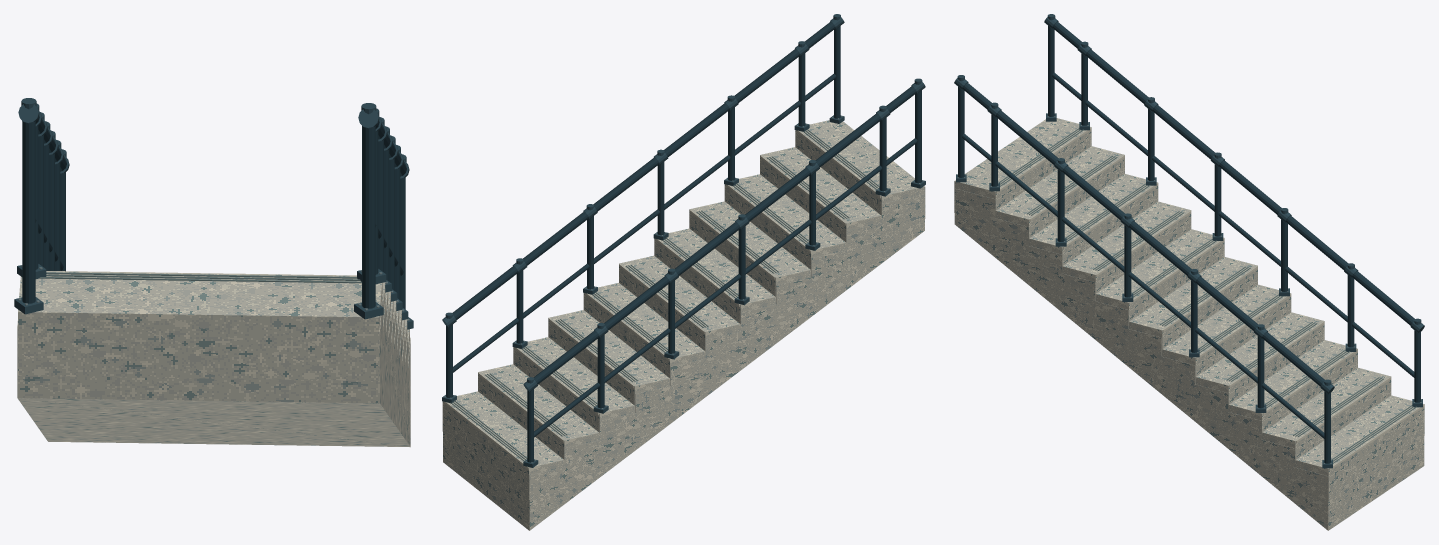
File: upper_rotating_stair.glb
3 renders of one model, left to right at view 1: azimuth 30°, elevation 25°; view 2: azimuth 150°, elevation 25°; view 3: azimuth 270°, elevation 25°, orthographic. The views are drawn at different scales.
Visible parts, largest first — view 1: b_upper_stair, Closed stone side and underside, Round post 1 06, Round post -1 06, Round post -1 01, Anti-slip 10 2, Anti-slip 10 0, Anti-slip 10 1, Round post -1 04, Round post 1 04, Round post -1 03, Round post -1 00 (+7 smaller); view 2: b_upper_stair, Closed stone side and underside, Continuous upper rail 1, Continuous upper rail -1, Continuous lower rail 1, Continuous lower rail -1, Round post -1 06, Round post 1 06, Round post -1 01, Round post -1 05, Round post 1 03; view 3: b_upper_stair, Closed stone side and underside, Continuous upper rail -1, Continuous upper rail 1, Continuous lower rail 1, Continuous lower rail -1, Round post 1 06, Round post -1 06, Round post -1 01, Round post -1 03, Round post 1 03, Round post 1 01 (+1 smaller).
Part boxes in pixels (box(x1,y1,x2,y2)): b_upper_stair: box(18, 271, 409, 380); Closed stone side and underside: box(17, 291, 410, 447); Round post 1 06: box(22, 121, 35, 303); Round post -1 06: box(362, 126, 375, 308); Round post -1 01: box(394, 168, 400, 299); Anti-slip 10 2: box(39, 277, 361, 283); Anti-slip 10 0: box(46, 272, 357, 278); Anti-slip 10 1: box(46, 274, 360, 280); Round post -1 04: box(378, 140, 383, 272); Round post 1 04: box(38, 135, 43, 267); Round post -1 03: box(384, 149, 389, 281); Round post -1 00: box(400, 177, 405, 309); b_upper_stair: box(442, 120, 925, 499); Closed stone side and underside: box(443, 194, 924, 530); Continuous upper rail 1: box(533, 86, 916, 384); Continuous upper rail -1: box(452, 21, 835, 319); Continuous lower rail 1: box(534, 138, 917, 437); Continuous lower rail -1: box(452, 74, 836, 372); Round post -1 06: box(834, 26, 840, 118); Round post 1 06: box(915, 90, 921, 183); Round post -1 01: box(516, 270, 523, 343); Round post -1 05: box(798, 53, 805, 126); Round post 1 03: box(738, 226, 745, 299); b_upper_stair: box(954, 118, 1424, 500); Closed stone side and underside: box(954, 188, 1424, 530); Continuous upper rail -1: box(962, 82, 1324, 386); Continuous upper rail 1: box(1052, 21, 1414, 325); Continuous lower rail 1: box(1052, 72, 1414, 377); Continuous lower rail -1: box(962, 134, 1324, 438); Round post 1 06: box(1048, 25, 1054, 116); Round post -1 06: box(958, 87, 964, 177); Round post -1 01: box(1257, 336, 1264, 408); Round post -1 03: box(1124, 225, 1131, 297); Round post 1 03: box(1214, 164, 1221, 236); Round post 1 01: box(1347, 275, 1354, 347).
Bounding box in the file's own units: 2.87 × 2.9 × 3.49.
6 materials, 1 textured.
